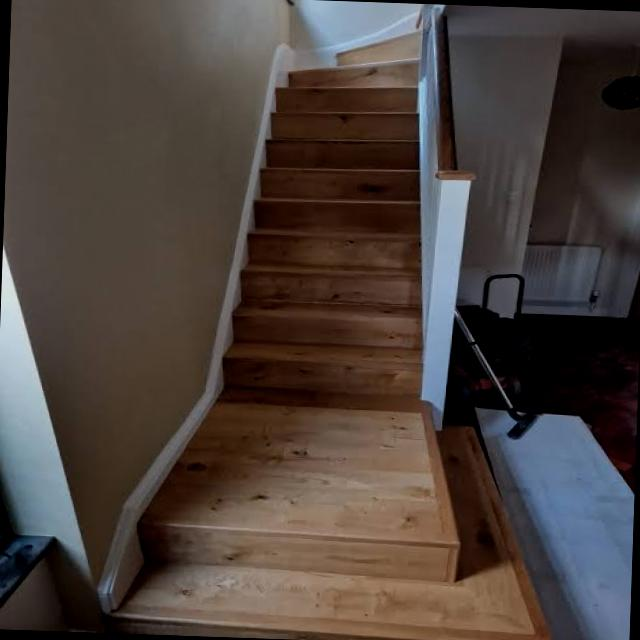Stairs: (83, 4, 574, 640)
